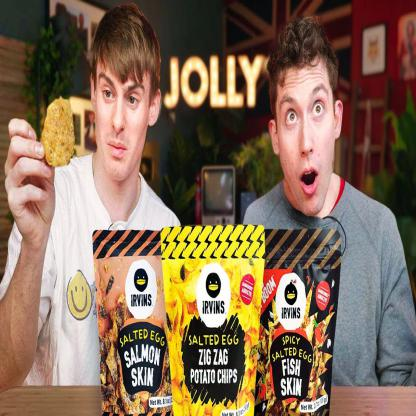potatochip: (146, 214, 269, 415), (231, 218, 345, 416), (85, 214, 184, 415)
